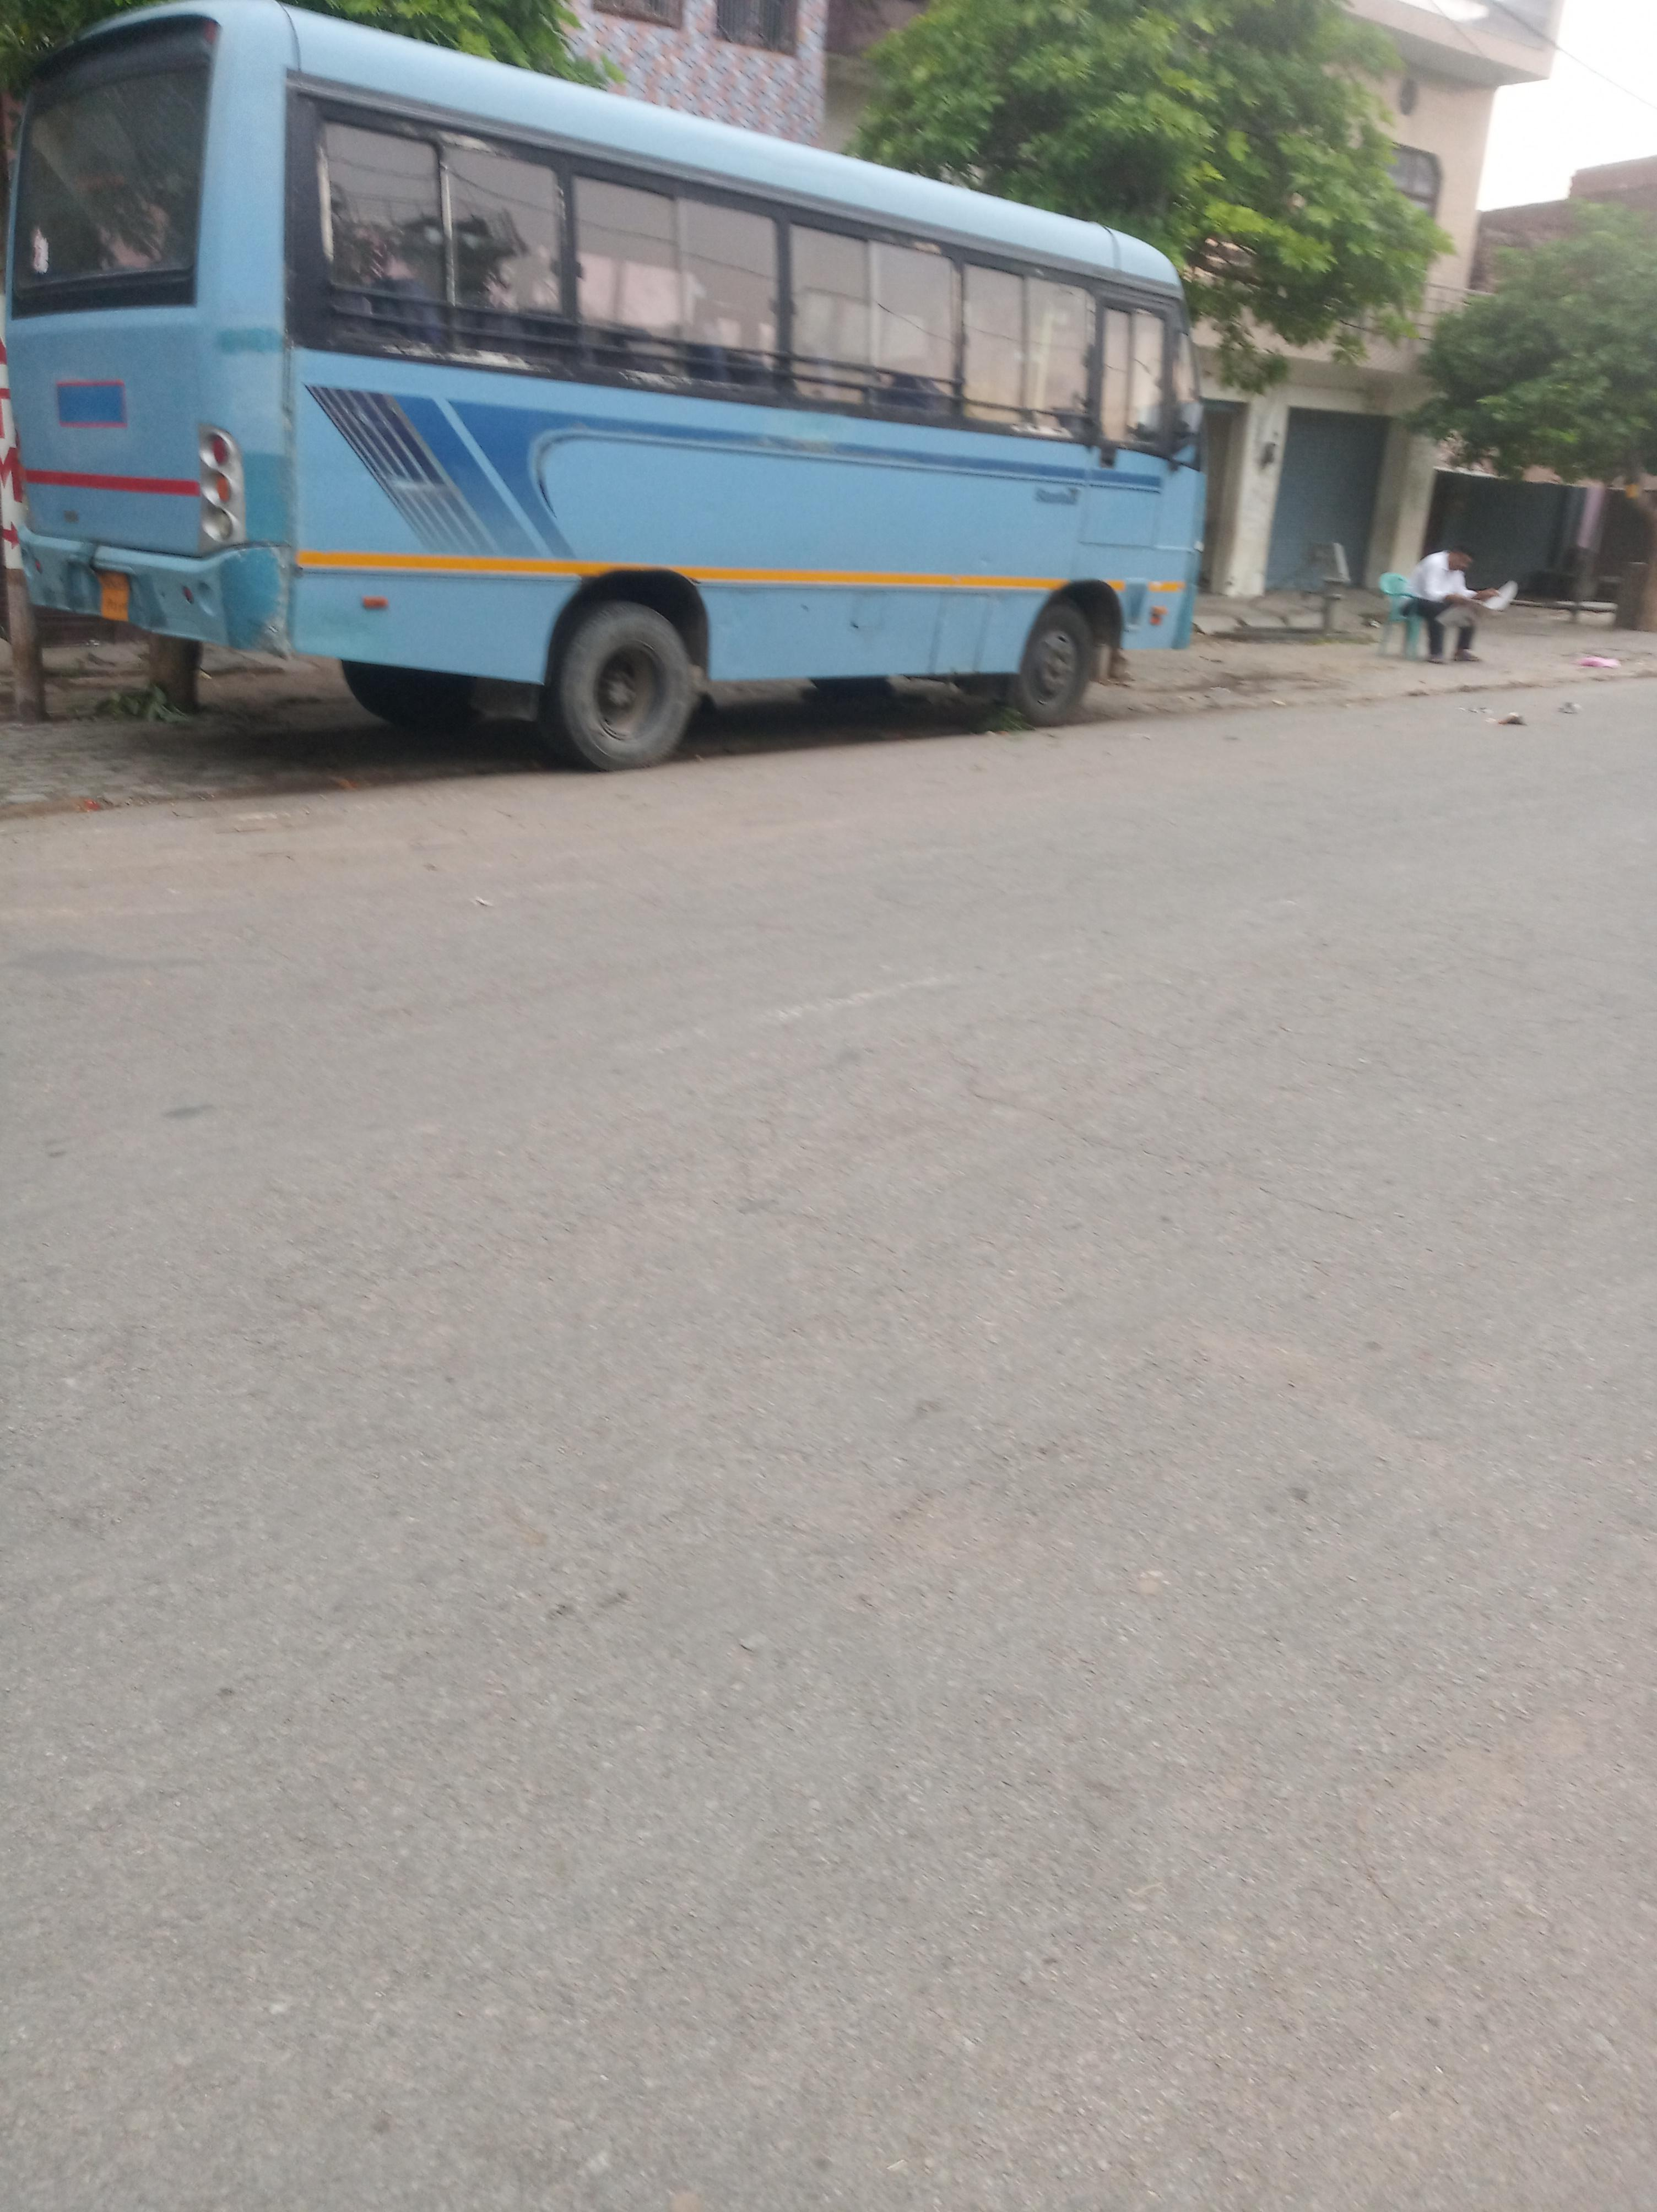Auto: (2, 0, 1229, 773)
